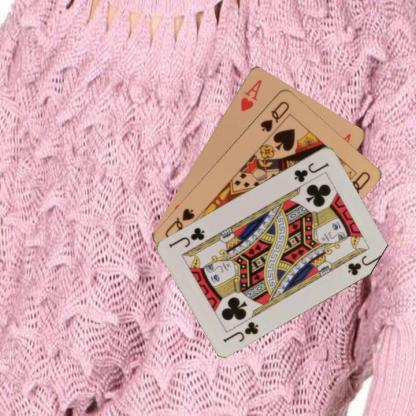Ah: (236, 76, 263, 113)
Jc: (221, 318, 260, 343), (291, 160, 331, 183)
Qs: (257, 98, 291, 134)
